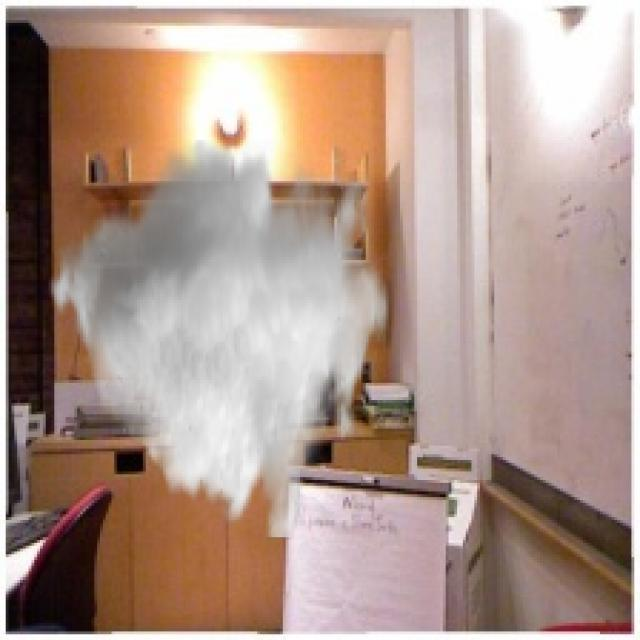Smoke: (42, 140, 388, 540)
